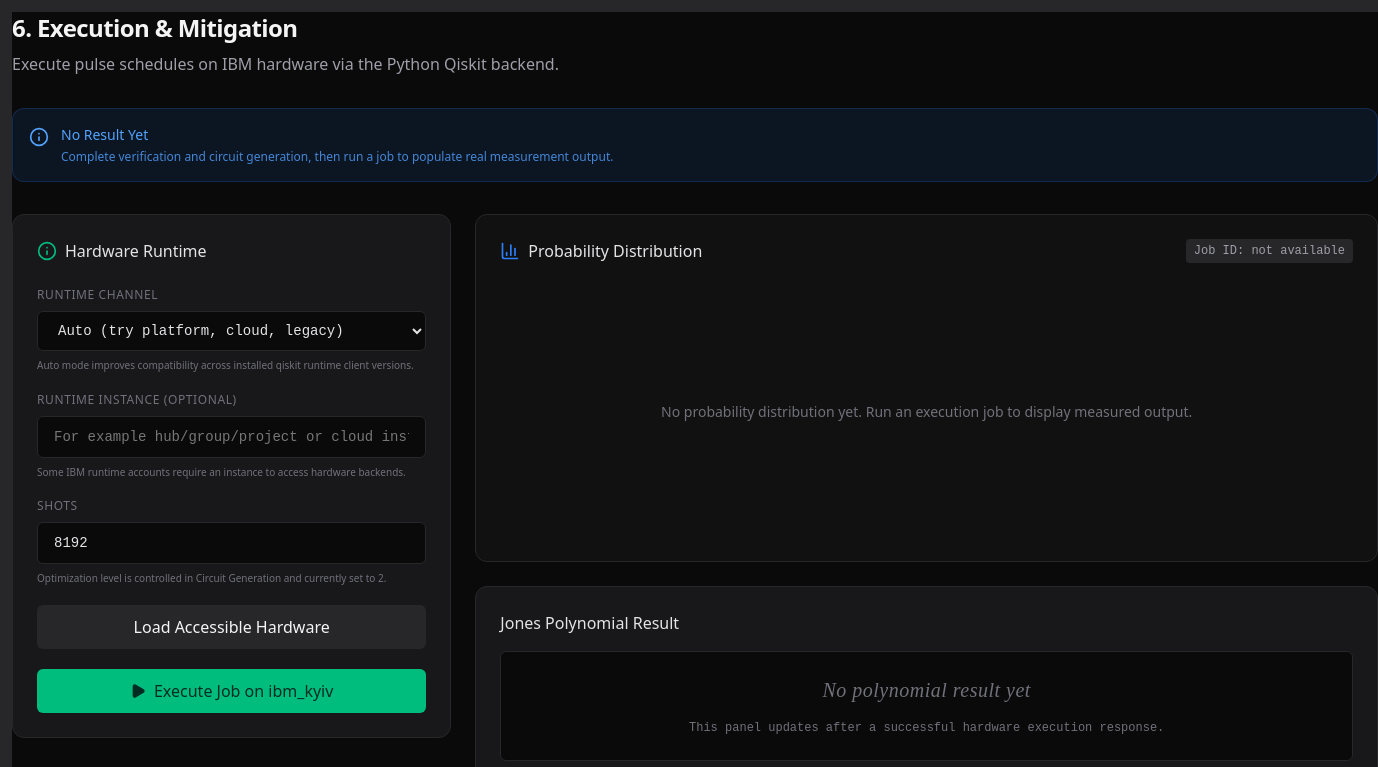
Test: ExecutionResults › shows a timeout error when polling never completes
The image size is (1378, 767).
Click the button "Execute Job on ibm_kyiv" at (232, 690), box [37,668,426,712]
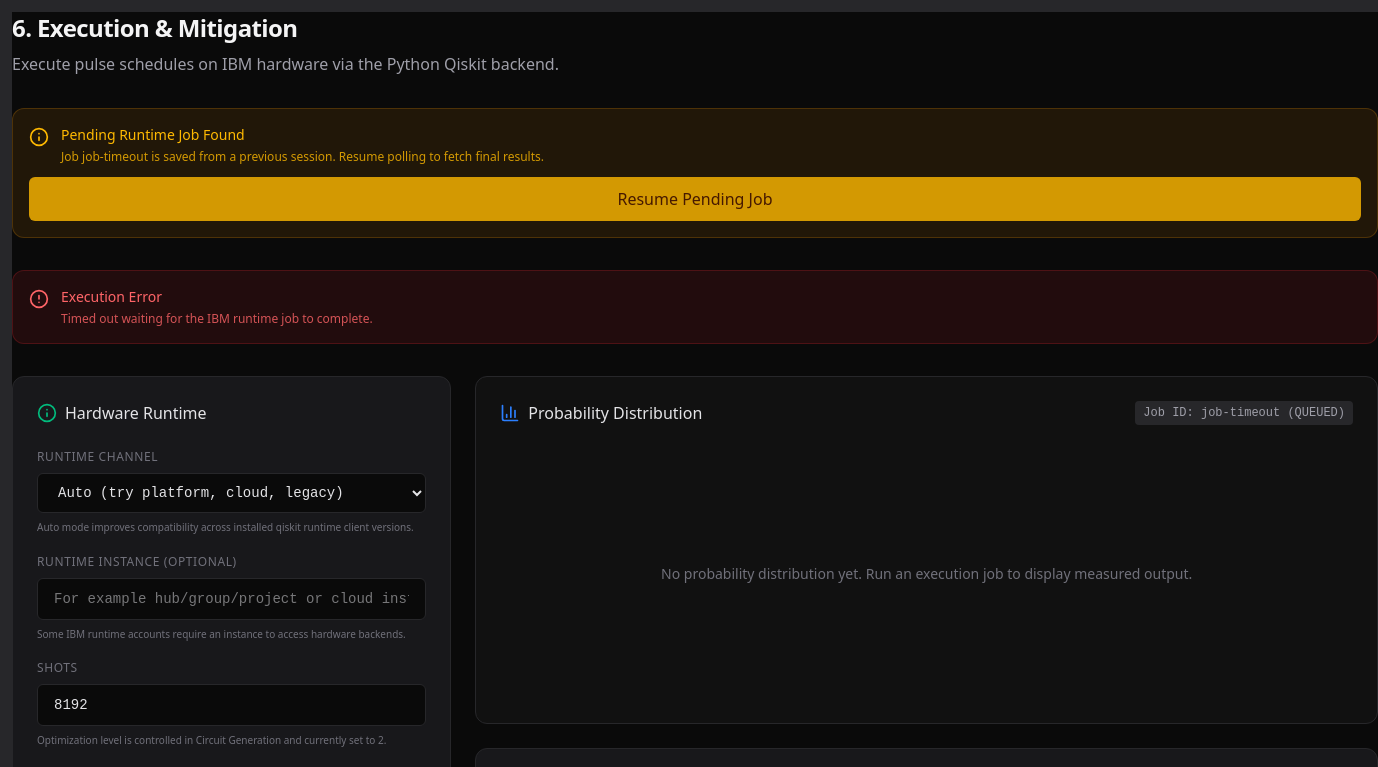
Expected: the text "Timed out waiting for the IBM runtime job to complete." is shown, [61,311,373,327]
